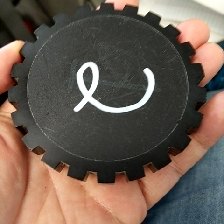gear: (6, 1, 208, 185)
